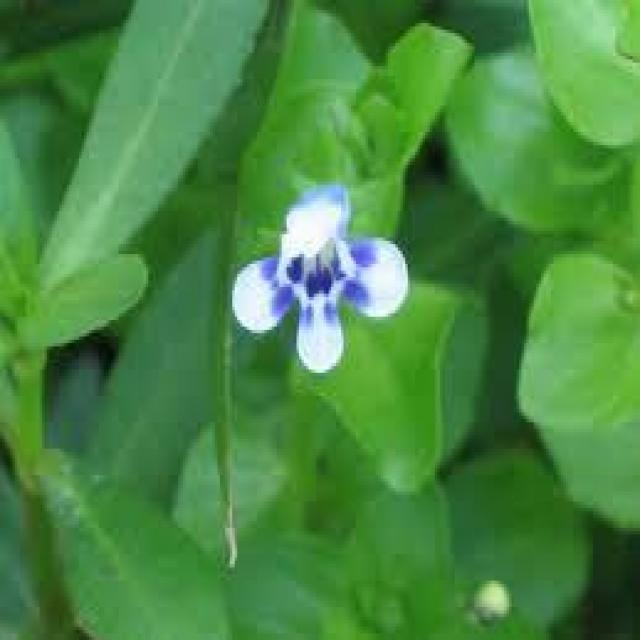organic waste: (243, 175, 434, 386)
